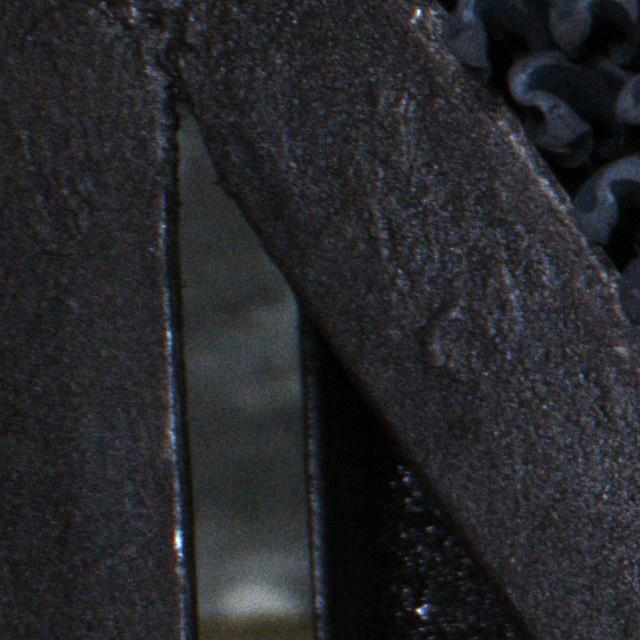tool_b: (505, 50, 632, 165), (444, 0, 558, 83), (574, 155, 640, 257), (548, 0, 640, 62), (616, 51, 640, 160)
